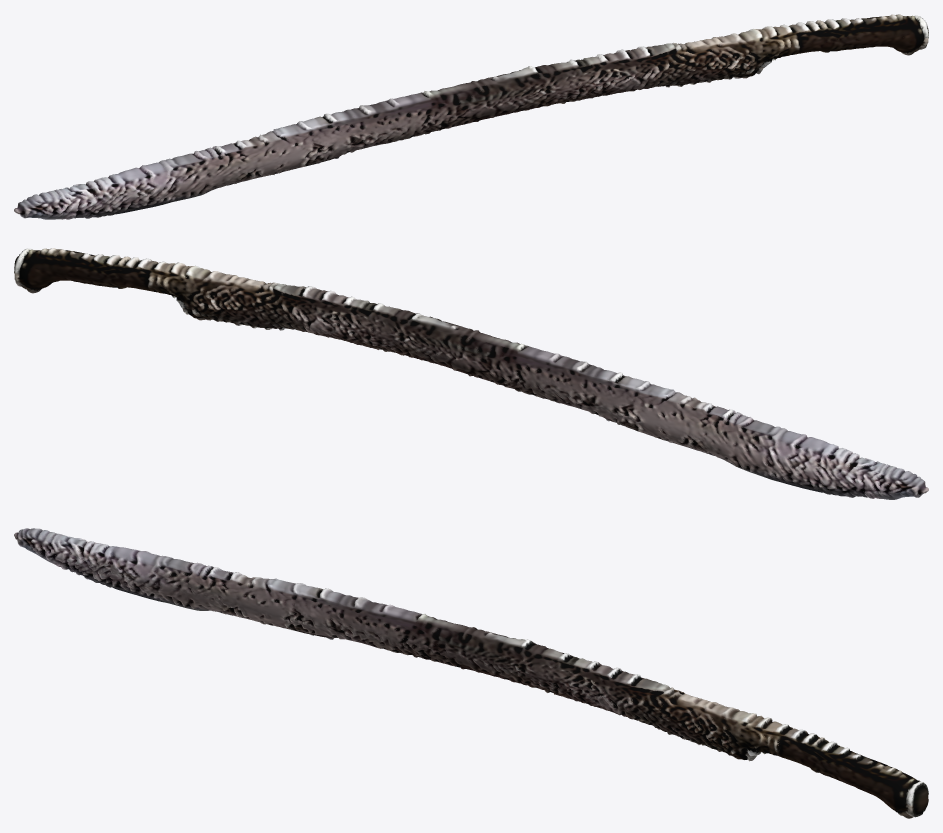
Rendered from kfl-2266.glb.
3 views of the same model, one above another, from view 1: azimuth 30°, elevation 25°; view 2: azimuth 150°, elevation 25°; view 3: azimuth 330°, elevation 25° (orthographic). The views are drawn at different scales.
Parts seen in each view (by area): view 1: kfl-2266; view 2: kfl-2266; view 3: kfl-2266.
Boxes of the visible parts, box(x1,y1,x2,y2) form: kfl-2266: box(14, 14, 928, 219); kfl-2266: box(14, 248, 928, 499); kfl-2266: box(14, 528, 928, 818).
Bounding box in the file's own units: 0.9837 × 0.0784 × 0.0759.
1 material, 1 textured.
